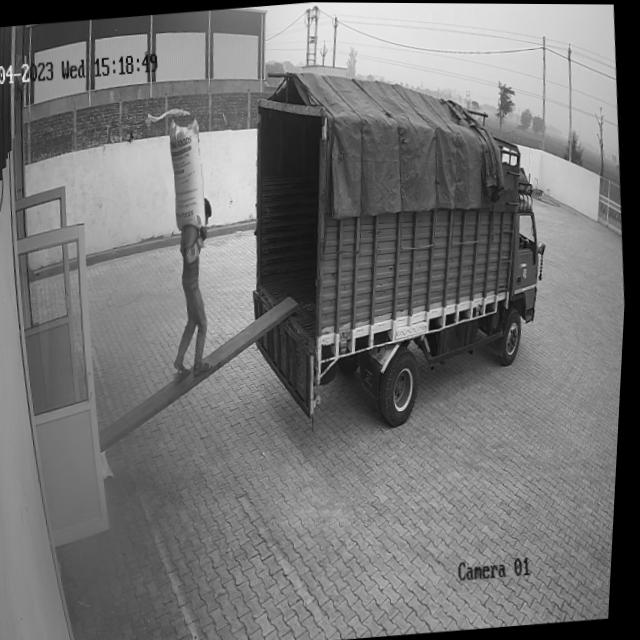sack: (165, 116, 213, 234)
